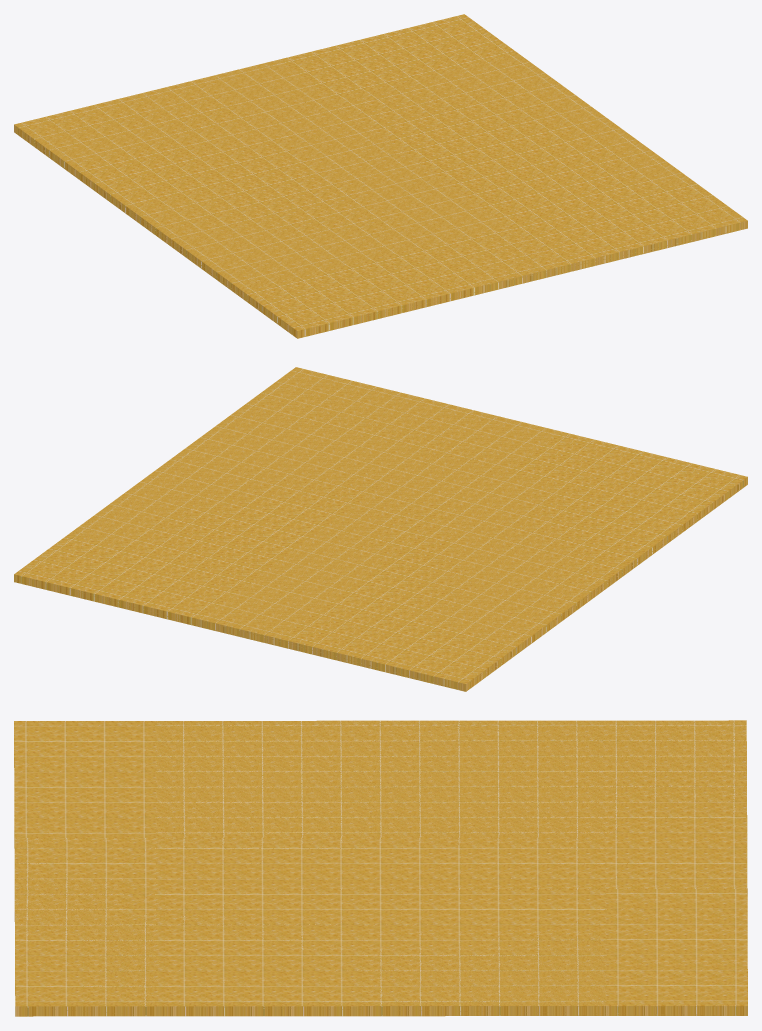
Rendered from piso.glb.
3 views of the same model, one above another, from view 1: azimuth 30°, elevation 25°; view 2: azimuth 150°, elevation 25°; view 3: azimuth 270°, elevation 25° (orthographic). The views are drawn at different scales.
Parts seen in each view (by area): view 1: Suelo_TileTexture_0.001; view 2: Suelo_TileTexture_0.001; view 3: Suelo_TileTexture_0.001.
Part boxes in pixels (x1,y1,x2,y2): Suelo_TileTexture_0.001: [14, 14, 747, 338]; Suelo_TileTexture_0.001: [14, 367, 747, 691]; Suelo_TileTexture_0.001: [14, 720, 747, 1016].
Bounding box in the file's own units: 4.18 × 0.0687 × 4.54.
Materials: 1 (1 with a texture image).
